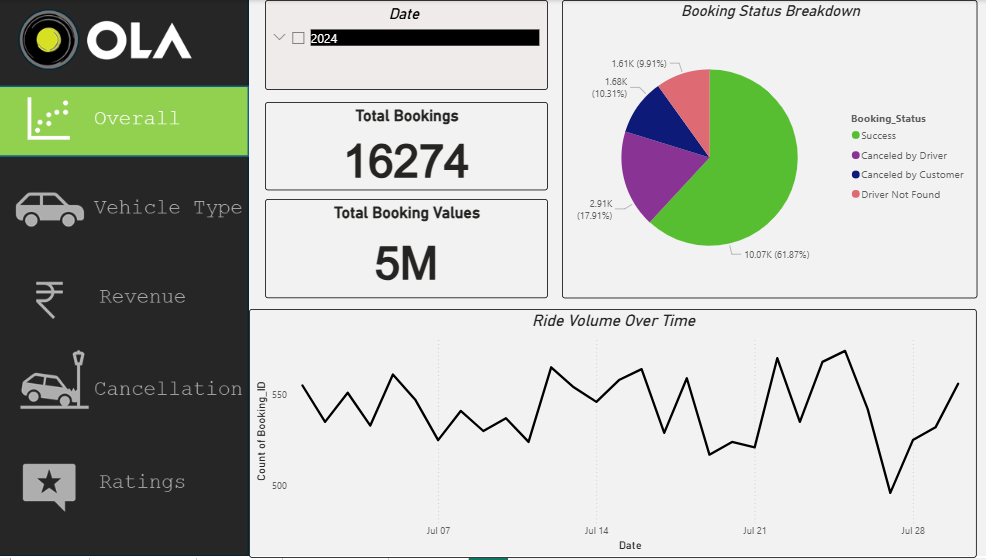

The dashboard page shown, as its layout file describes it:
{"tool":"powerbi","page":{"name":"Overall","canvas":[1280,720],"ordinal":0},"visuals":[{"type":"actionButton","box":[0,233.9,324.6,90.7],"z":0},{"type":"actionButton","box":[0,222.5,324.6,92.1],"z":1000},{"type":"actionButton","box":[0,338.7,324.6,92.1],"z":2000},{"type":"actionButton","box":[0,447.9,324.6,92.1],"z":3000},{"type":"actionButton","box":[0,576.9,324.6,92.1],"z":4000},{"type":"lineChart","title":"Ride Volume Over Time","fields":{"Y":["CountNonNull(Cleaning_Bookings-20000-Rows.Booking_ID)"],"Category":["Cleaning_Bookings-20000-Rows.Date"]},"box":[324.2,398.1,939,320.8],"z":5000},{"type":"pieChart","title":"Booking Status Breakdown","fields":{"Category":["Cleaning_Bookings-20000-Rows.Booking_Status"],"Y":["CountNonNull(Cleaning_Bookings-20000-Rows.Booking_Status)"]},"box":[727.3,0,535.9,384.7],"z":6000},{"type":"slicer","title":"Date","fields":{"Values":["Cleaning_Bookings-20000-Rows.Date.Variation.Date Hierarchy.Year","Cleaning_Bookings-20000-Rows.Date.Variation.Date Hierarchy.Quarter","Cleaning_Bookings-20000-Rows.Date.Variation.Date Hierarchy.Month","Cleaning_Bookings-20000-Rows.Date.Variation.Date Hierarchy.Day"]},"box":[344.4,0,364.5,115.9],"z":7000},{"type":"card","title":"Total Bookings","fields":{"Values":["Count(Cleaning_Bookings-20000-Rows.Booking_ID)"]},"box":[344.4,131,364.5,114.2],"z":8000},{"type":"card","title":"Total Booking Values","fields":{"Values":["Sum(Cleaning_Bookings-20000-Rows.Booking_Value)"]},"box":[344.4,257,364.5,127.7],"z":9000}]}

Visuals, with their boxes on the page's 1280x720 design canvas (x1, y1, x2, y2). These are canvas units, not pixel positions in the 986x560 screenshot, which may show the page scaled, cropped or inside an application window:
actionButton: x1=0, y1=234, x2=325, y2=325
actionButton: x1=0, y1=222, x2=325, y2=315
actionButton: x1=0, y1=339, x2=325, y2=431
actionButton: x1=0, y1=448, x2=325, y2=540
actionButton: x1=0, y1=577, x2=325, y2=669
"Ride Volume Over Time" lineChart: x1=324, y1=398, x2=1263, y2=719
"Booking Status Breakdown" pieChart: x1=727, y1=0, x2=1263, y2=385
"Date" slicer: x1=344, y1=0, x2=709, y2=116
"Total Bookings" card: x1=344, y1=131, x2=709, y2=245
"Total Booking Values" card: x1=344, y1=257, x2=709, y2=385
